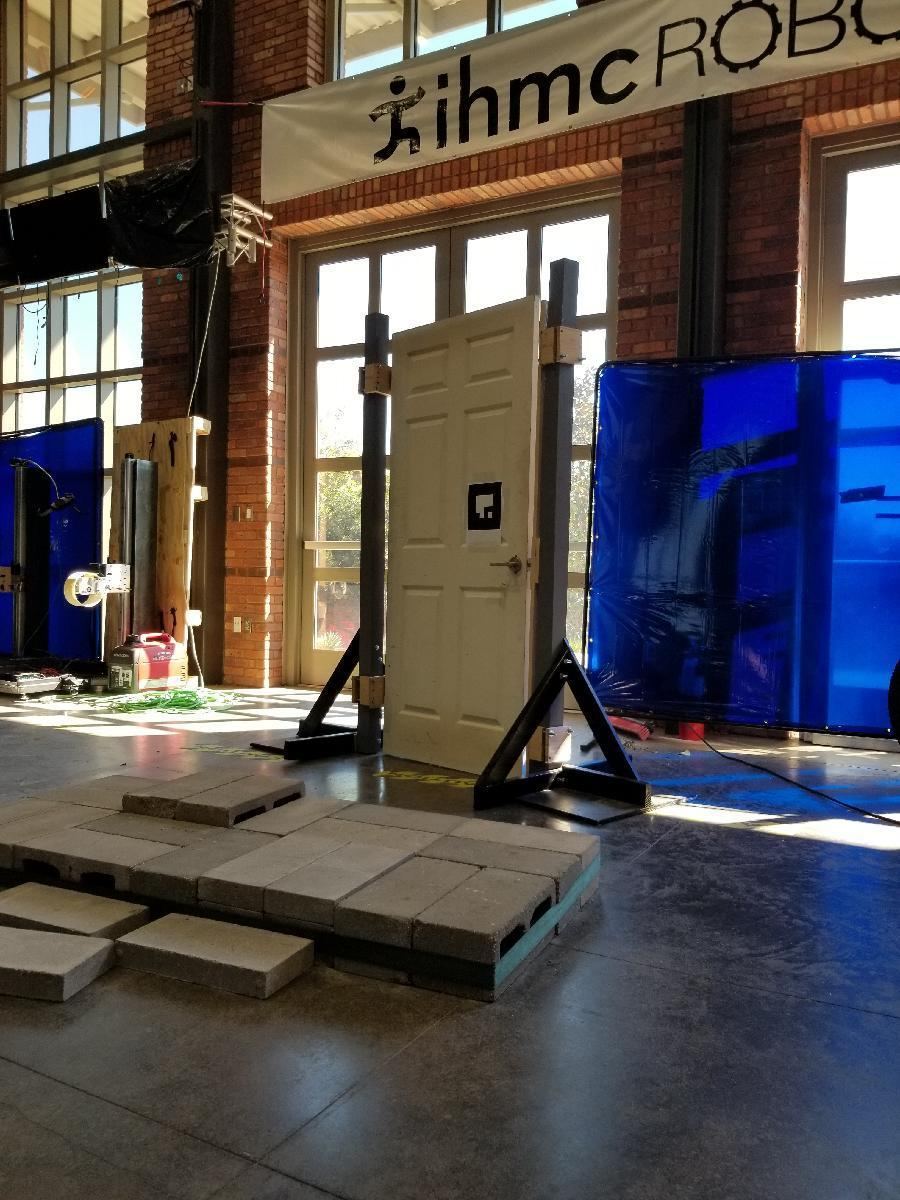door: (394, 343, 530, 777)
handle: (491, 554, 524, 576)
